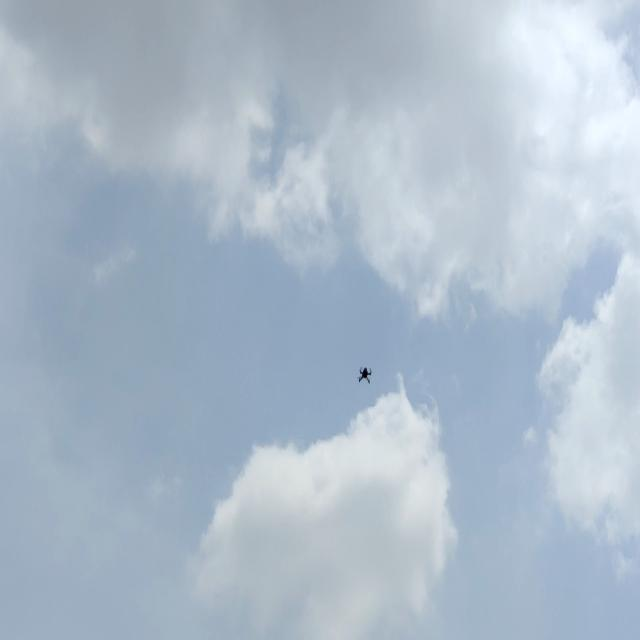drone: (354, 361, 377, 388)
